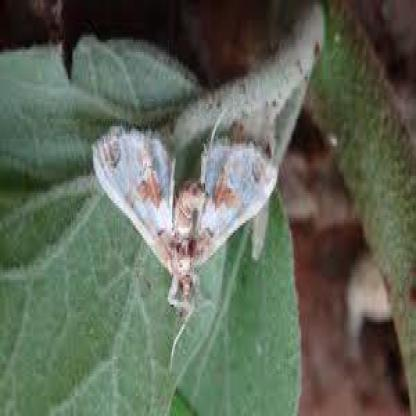leucinodes: (92, 131, 279, 296)
